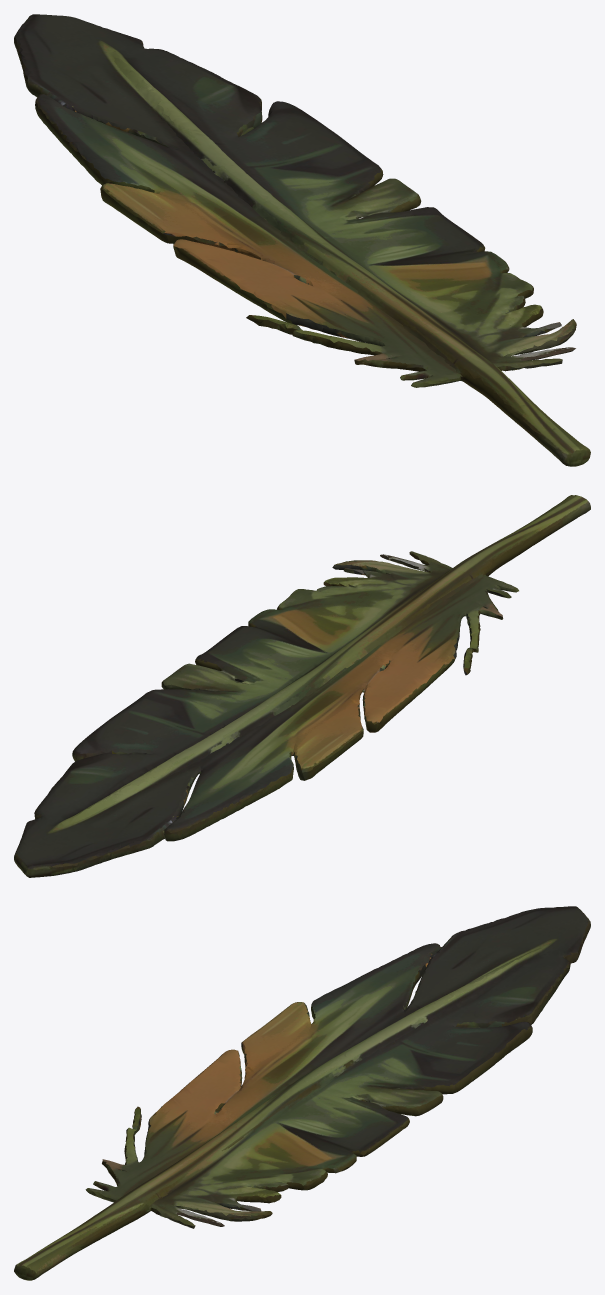
Rendered from item_crow_feather.glb.
The picture shows the model from 3 angles, top to bottom: view 1: azimuth 30°, elevation 25°; view 2: azimuth 150°, elevation 25°; view 3: azimuth 330°, elevation 25°; orthographic projection. The views are drawn at different scales.
Parts seen in each view (by area): view 1: item_crow_feather; view 2: item_crow_feather; view 3: item_crow_feather.
Part boxes in pixels (left/top/right/bottom): item_crow_feather: left=14, top=14, right=590, bottom=466; item_crow_feather: left=14, top=495, right=590, bottom=877; item_crow_feather: left=14, top=906, right=590, bottom=1280.
Size of the model in its own units: 0.0617 by 0.00609 by 0.25.
1 material, 1 textured.
